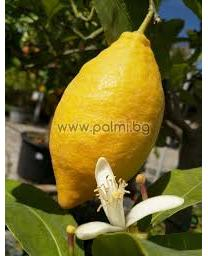lemon: (50, 32, 165, 204)
